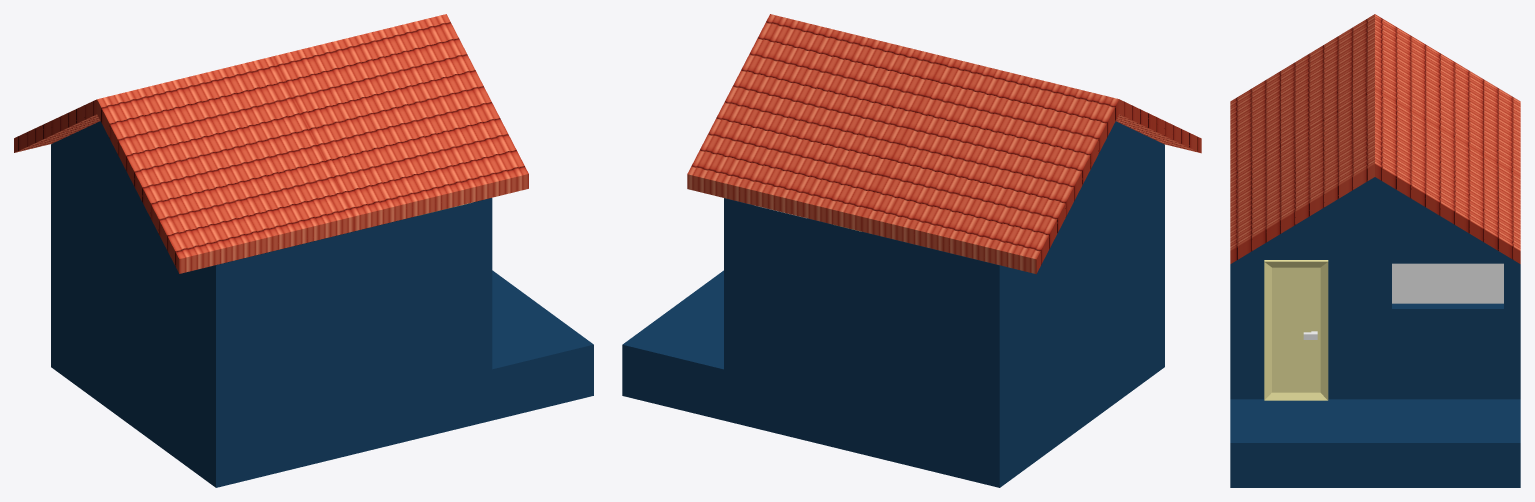
File: Rumah Pertama (1).fbx
3 renders of one model, left to right at view 1: azimuth 30°, elevation 25°; view 2: azimuth 150°, elevation 25°; view 3: azimuth 270°, elevation 25°, orthographic. The views are drawn at different scales.
Visible parts, largest first — view 1: Rumah Base, Genteng; view 2: Rumah Base, Genteng; view 3: Rumah Base, Genteng, Pintu.
Boxes of the visible parts, x1=… form: Rumah Base: x1=51, y1=121, x2=593, y2=487; Genteng: x1=14, y1=14, x2=528, y2=273; Rumah Base: x1=622, y1=121, x2=1164, y2=487; Genteng: x1=687, y1=14, x2=1201, y2=274; Rumah Base: x1=1230, y1=177, x2=1520, y2=487; Genteng: x1=1230, y1=14, x2=1520, y2=263; Pintu: x1=1264, y1=260, x2=1328, y2=400.
Bounding box in the file's own units: 846 × 658 × 584.
Materials: 5 (1 with a texture image).
